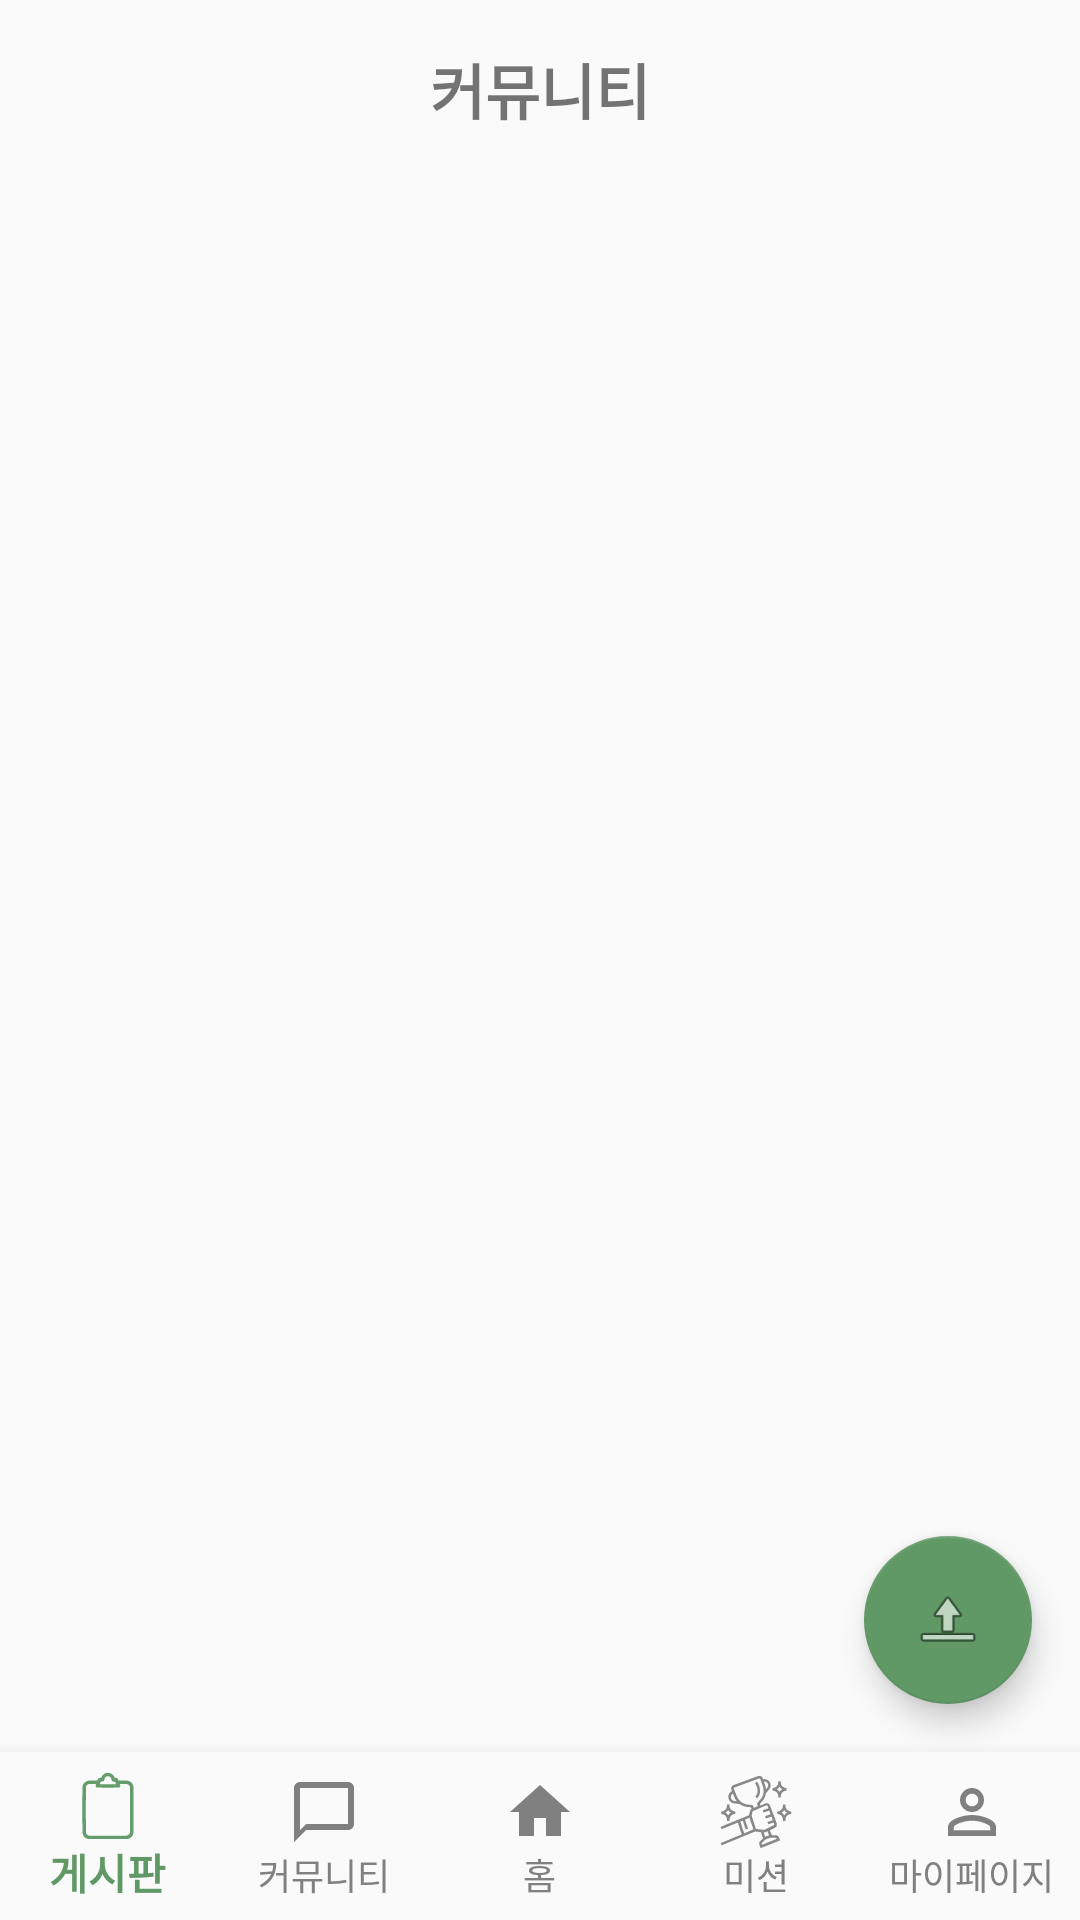

Named icons in this screenshot (1080 × 1920) and their centers, (x,y):
upload: (948,1620)
